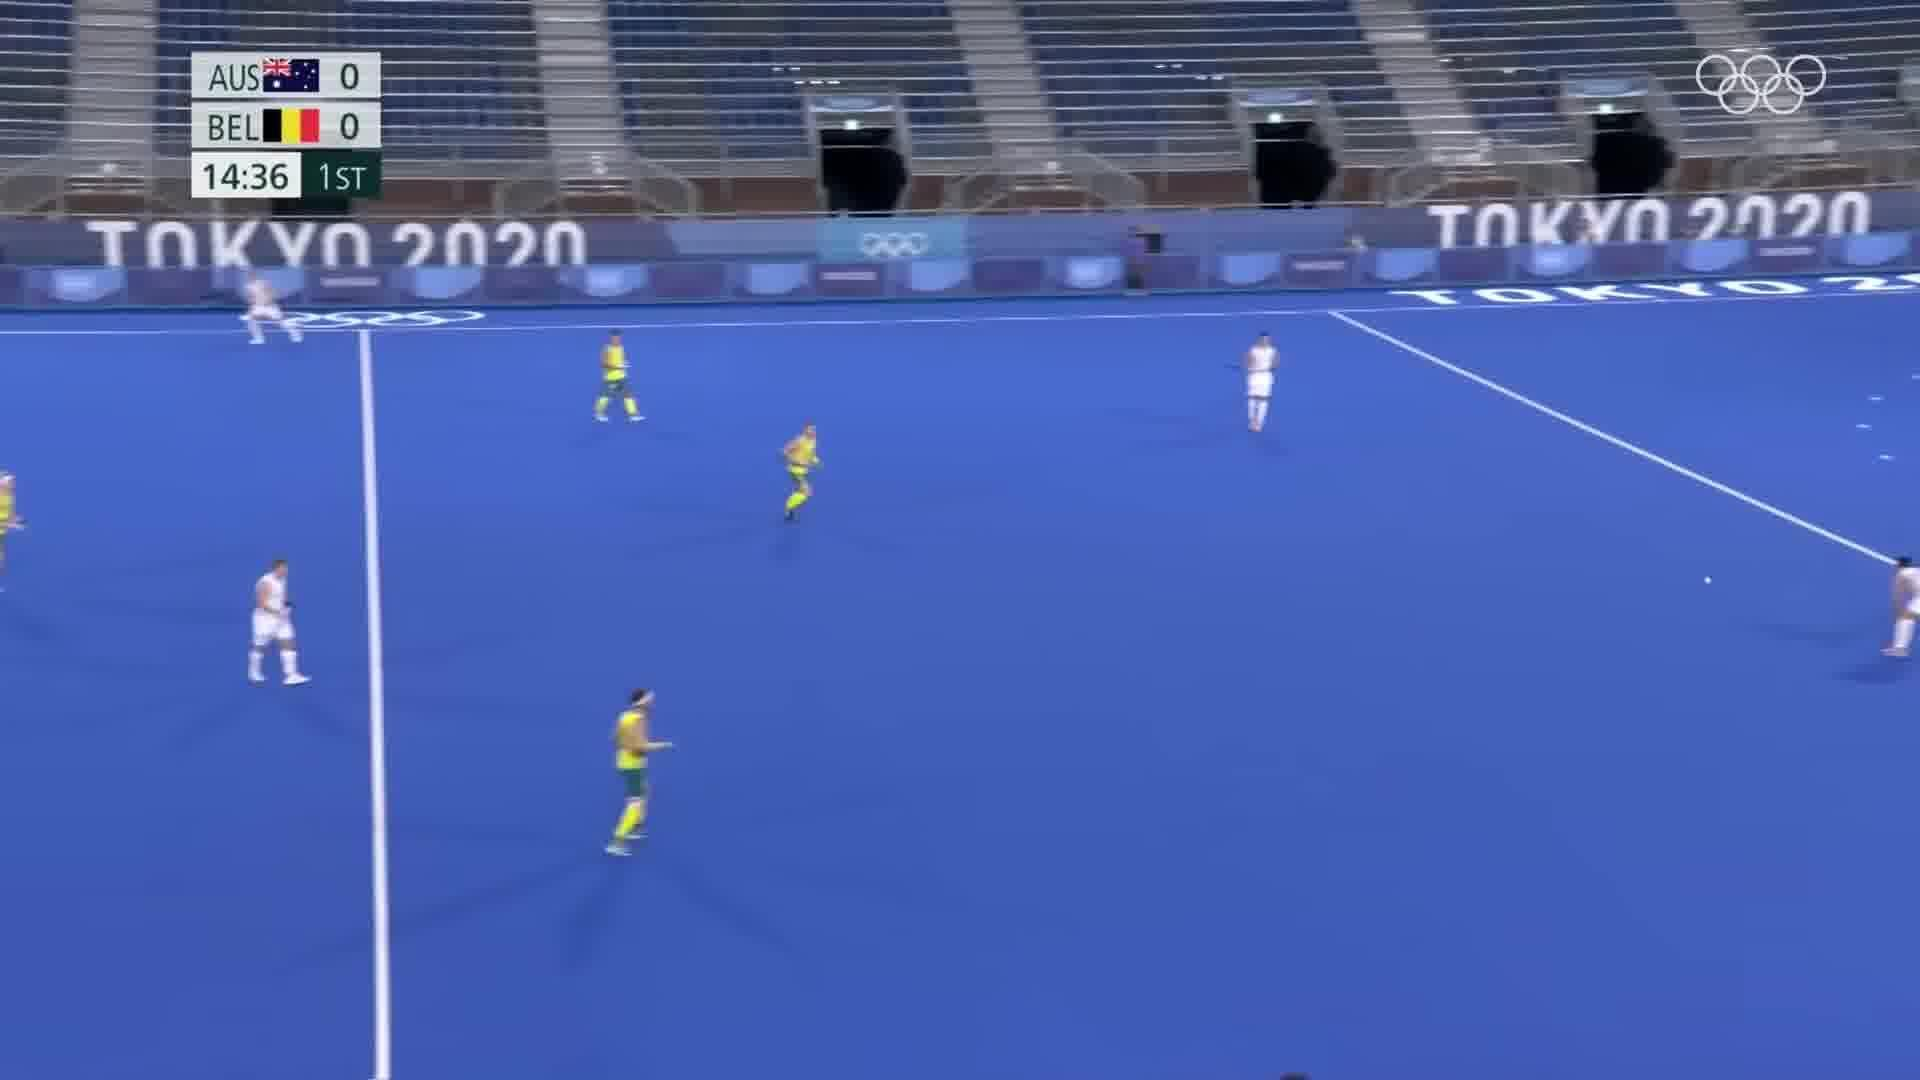ball: (1692, 563, 1720, 600)
